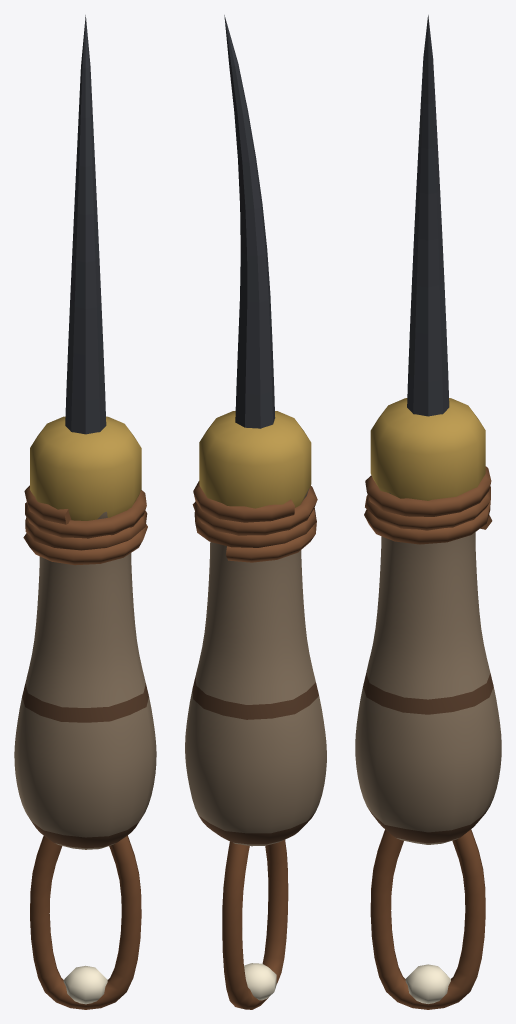
The model's file is tool_awl.fbx.
The picture shows the model from 3 angles, left to right: view 1: azimuth 90°, elevation 25°; view 2: azimuth 150°, elevation 25°; view 3: azimuth 270°, elevation 25°; orthographic projection. The views are drawn at different scales.
Visible parts, largest first — view 1: Tool_Awl_Handle, Tool_Awl_Thong, Tool_Awl_Spike, Tool_Awl_Ferrule; view 2: Tool_Awl_Handle, Tool_Awl_Thong, Tool_Awl_Spike, Tool_Awl_Ferrule; view 3: Tool_Awl_Handle, Tool_Awl_Thong, Tool_Awl_Spike, Tool_Awl_Ferrule.
Part boxes in pixels (x1,y1,x2,y2): Tool_Awl_Handle: (14,511,156,849); Tool_Awl_Thong: (23,485,147,1009); Tool_Awl_Spike: (65,15,106,434); Tool_Awl_Ferrule: (30,416,141,520); Tool_Awl_Handle: (185,489,326,846); Tool_Awl_Thong: (192,481,317,1009); Tool_Awl_Spike: (224,15,275,428); Tool_Awl_Ferrule: (199,411,311,508); Tool_Awl_Handle: (355,492,501,844); Tool_Awl_Thong: (364,466,492,1009); Tool_Awl_Spike: (407,15,449,416); Tool_Awl_Ferrule: (370,398,485,500).
Size of the model in its own units: 5.21 by 39.71 by 5.23.
